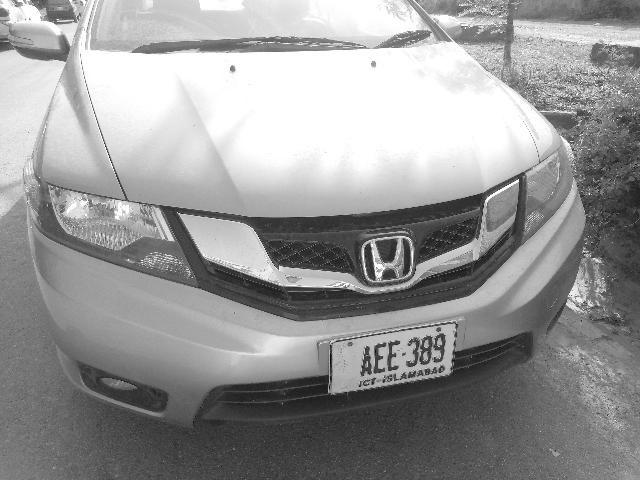Number: (329, 320, 456, 394)
